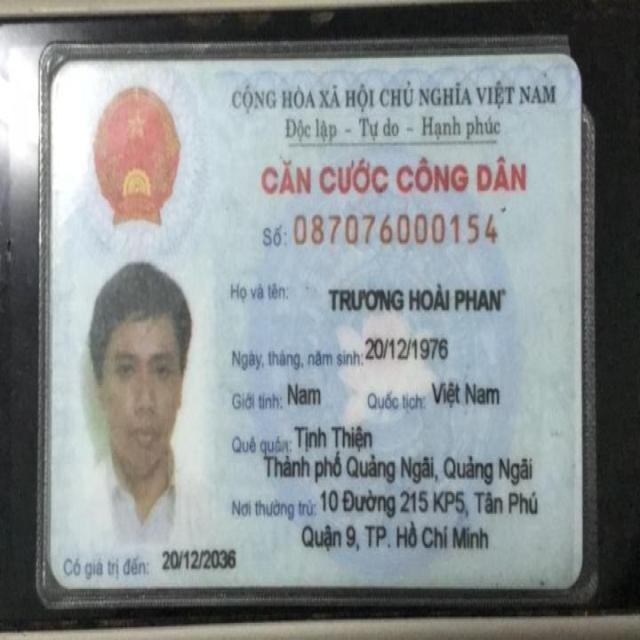bottom_left: (31, 546, 84, 598)
bottom_right: (534, 554, 594, 604)
image_person: (64, 266, 202, 536)
top_left: (36, 48, 85, 106)
top_right: (542, 42, 595, 104)
